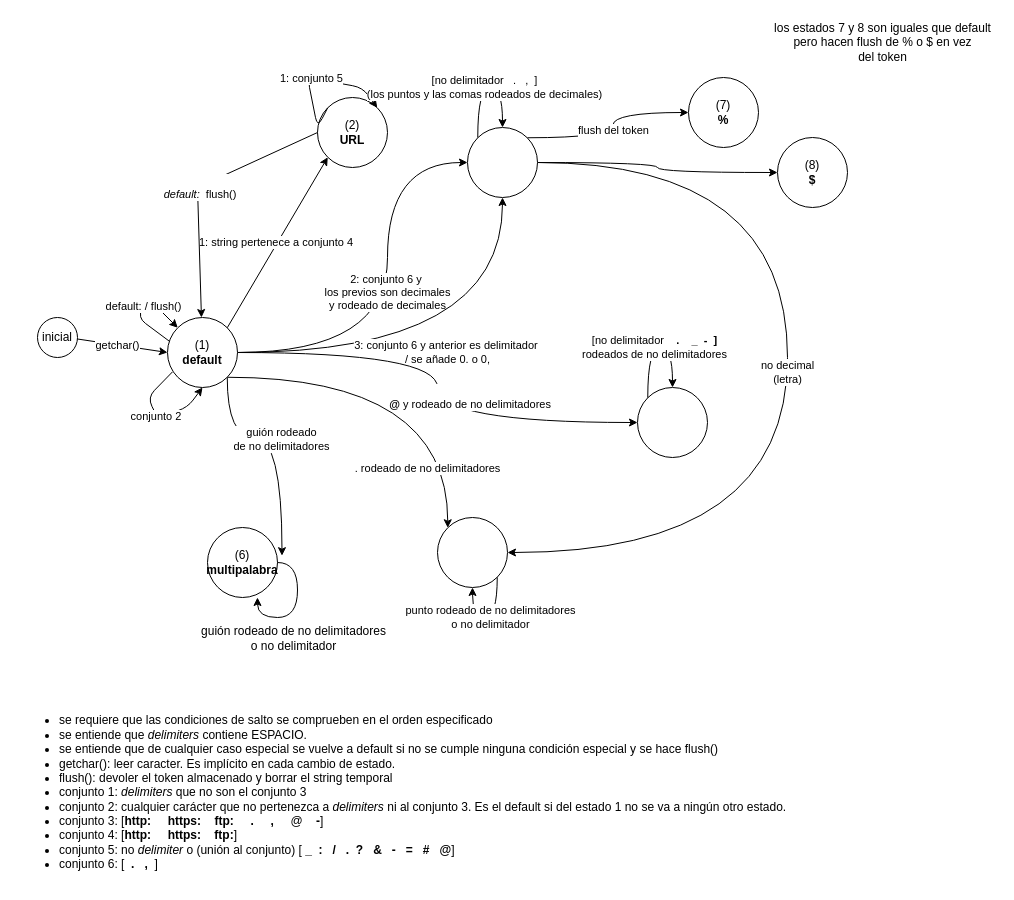
This 1014x900 diagram has some shape labels left out. The shapes that lost their labels are listed below. From the top down, each one's box as (x1, y1, x2, y2) in pixels, then its label:
(466, 126, 538, 198): (3) decimal
(636, 386, 708, 458): (4) email
(436, 516, 508, 588): (5) acrónimo
